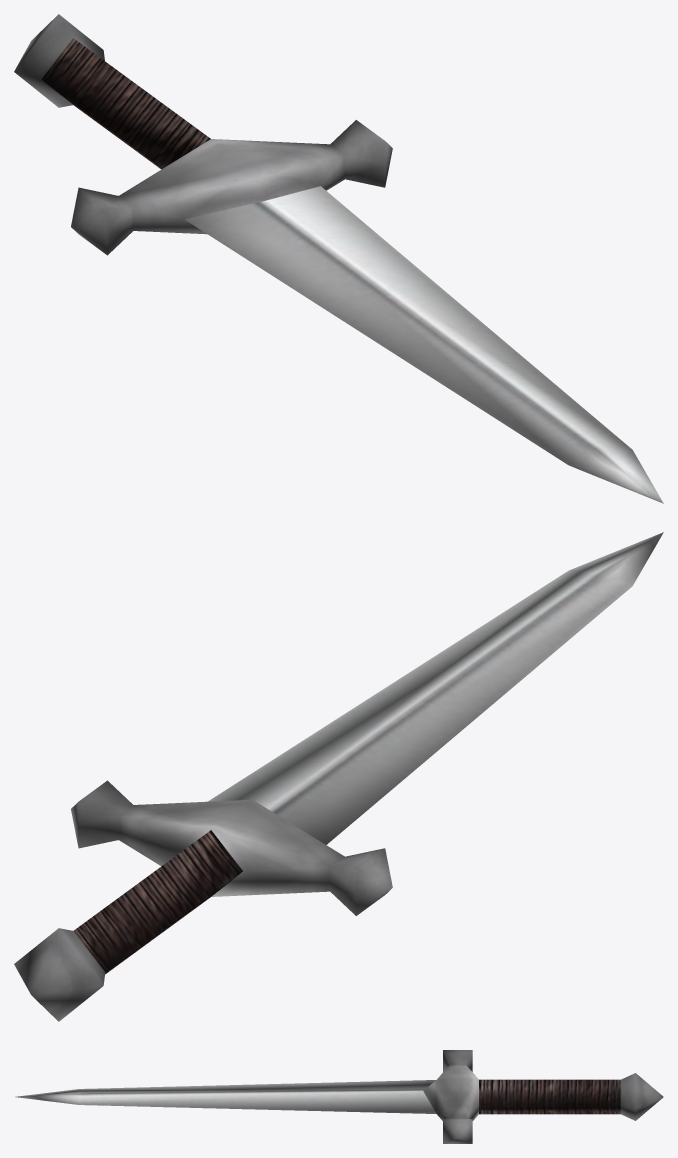
File: pugnale.glb
3 renders of one model, top to bottom at view 1: azimuth 30°, elevation 25°; view 2: azimuth 150°, elevation 25°; view 3: azimuth 270°, elevation 25°, orthographic. The views are drawn at different scales.
Visible parts, largest first — view 1: dagger_1; view 2: dagger_1; view 3: dagger_1.
Part boxes in pixels (<box>): dagger_1: <box>14,14,663,503</box>; dagger_1: <box>14,532,663,1021</box>; dagger_1: <box>15,1050,663,1143</box>.
Size of the model in its own units: 0.3413 by 0.095 by 1.16.
Materials: 1 (1 with a texture image).
